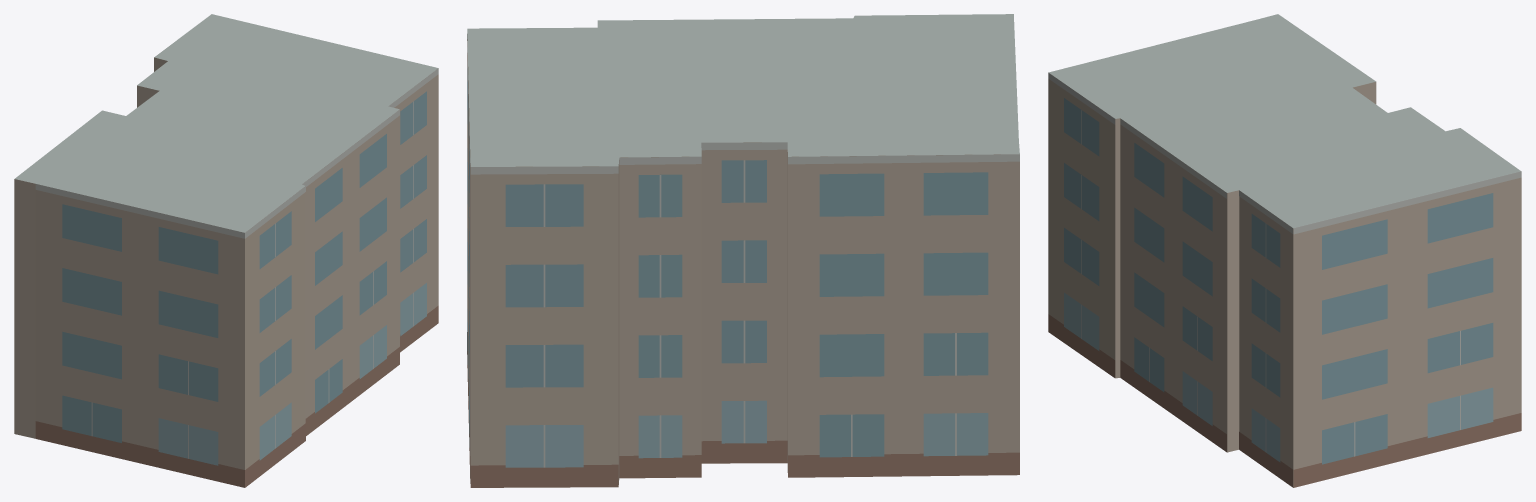
File: survey-upis-32832857.glb
3 renders of one model, left to right at view 1: azimuth 30°, elevation 25°; view 2: azimuth 150°, elevation 25°; view 3: azimuth 270°, elevation 25°, orthographic. The views are drawn at different scales.
Parts seen in each view (by area): view 1: survey-upis-32832857.tmp; view 2: survey-upis-32832857.tmp; view 3: survey-upis-32832857.tmp.
Part boxes in pixels (x1,y1,x2,y2): survey-upis-32832857.tmp: (14,14,438,487); survey-upis-32832857.tmp: (467,14,1019,487); survey-upis-32832857.tmp: (1048,14,1521,487).
Size of the model in its own units: 18.44 by 10.4 by 17.2.
